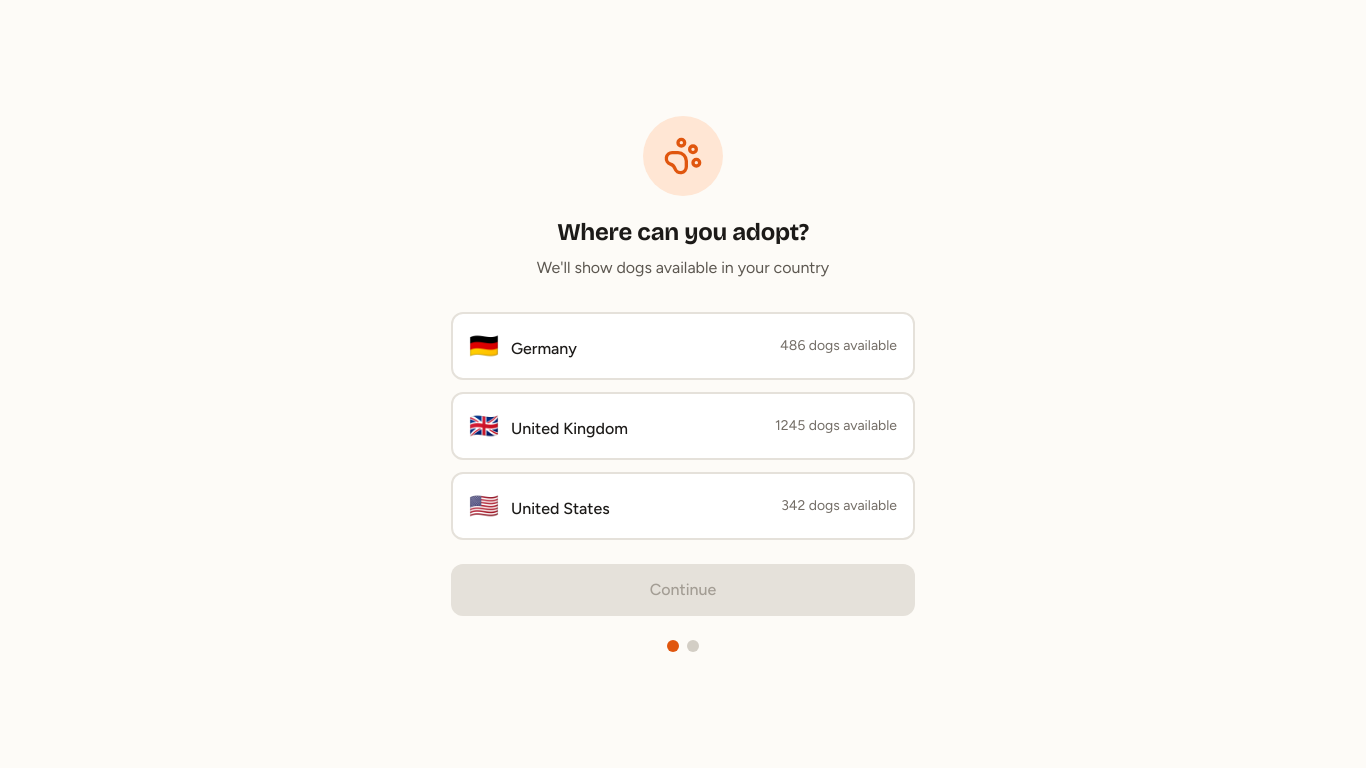
SwipeOnboarding › Size Preference Step › should show size options after country selection
The image size is (1366, 768).
Expected: the text "Germany" is shown, x1=511 y1=339 x2=577 y2=358
What coordinates should you click on to do the following:
click the button "🇩🇪Germany 486 dogs available"
I would click on:
 (544, 348)
Its box is x1=451 y1=312 x2=915 y2=380.
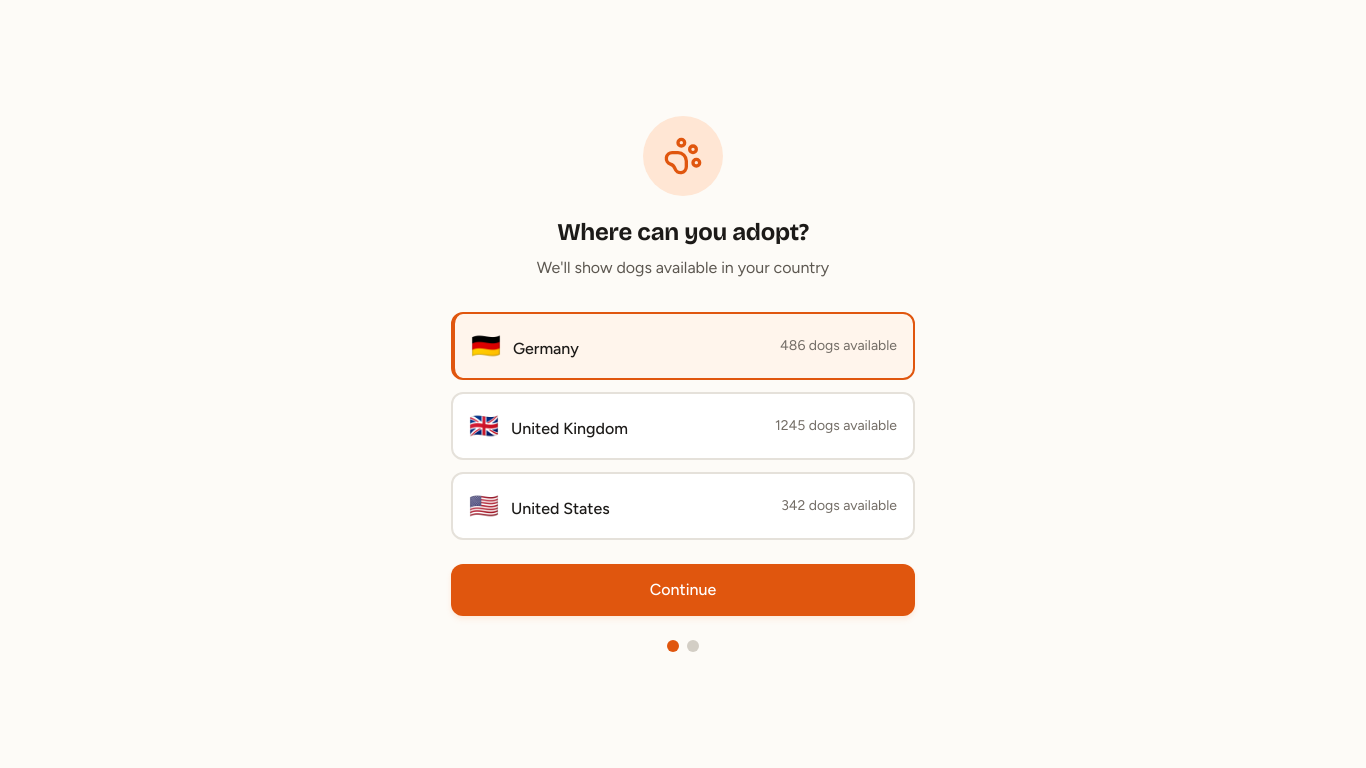
What coordinates should you click on to do the following:
click the button "Continue"
I would click on:
 (683, 590)
Its box is x1=451 y1=564 x2=915 y2=616.
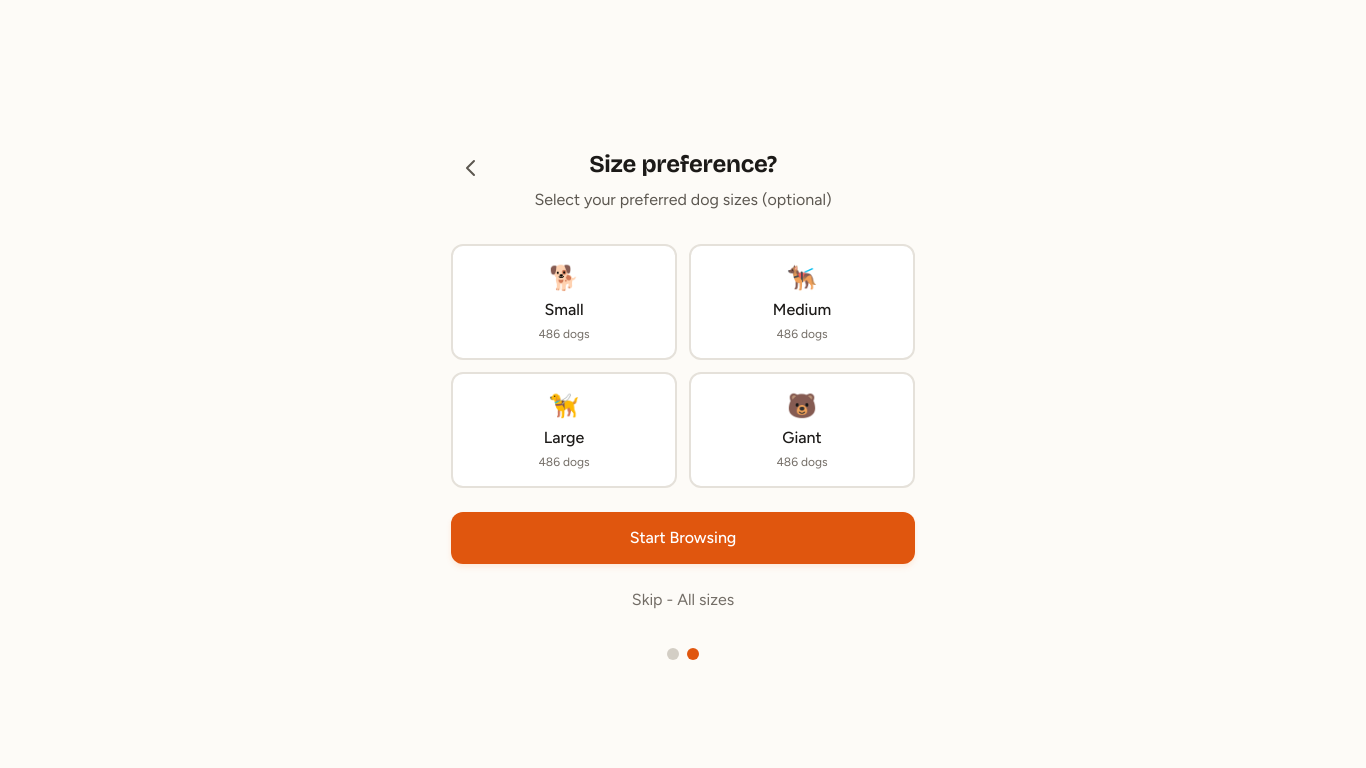
Result: the heading "Size preference?" is shown at x1=589 y1=150 x2=777 y2=178
Result: the button "🐕 Small 486 dogs" is shown at x1=451 y1=244 x2=677 y2=360
Result: the button "🐕‍🦺 Medium 486 dogs" is shown at x1=689 y1=244 x2=915 y2=360
